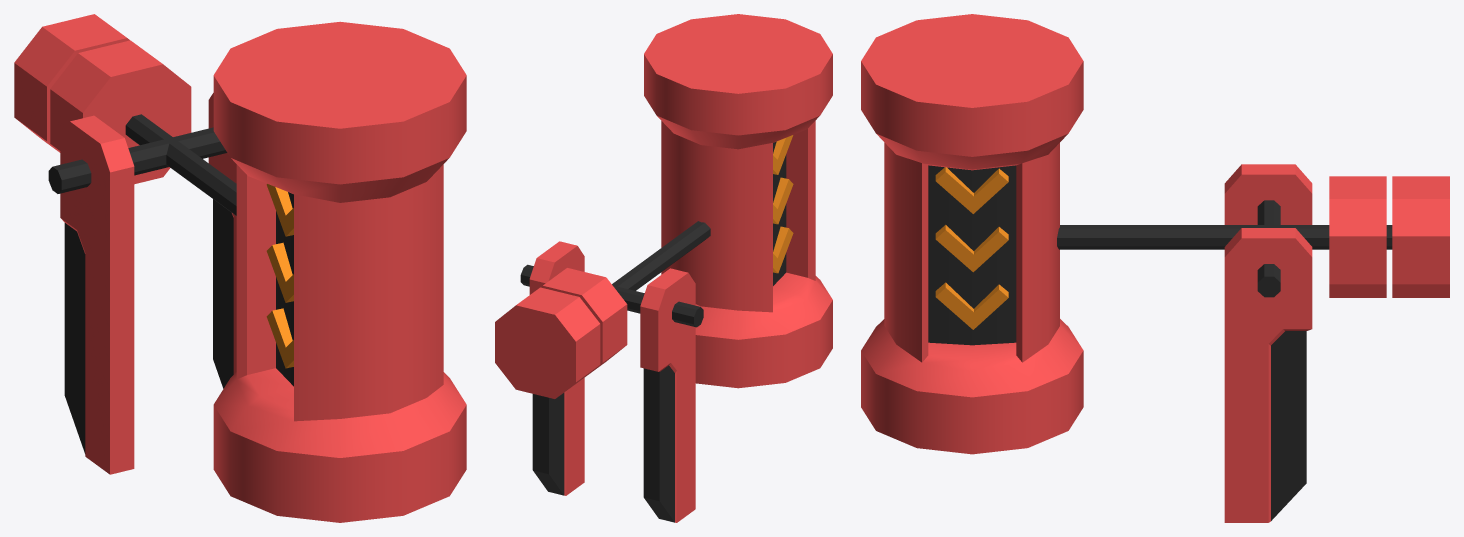
Rendered from HummerFell.fbx.
3 renders of one model, left to right at view 1: azimuth 30°, elevation 25°; view 2: azimuth 150°, elevation 25°; view 3: azimuth 270°, elevation 25°, orthographic. The views are drawn at different scales.
Visible parts, largest first — view 1: Hummer, Base; view 2: Hummer, Base; view 3: Hummer, Base.
Boxes of the visible parts, left/top/right/bottom form: Hummer: left=14, top=14, right=466, bottom=522; Base: left=60, top=93, right=236, bottom=474; Hummer: left=495, top=14, right=832, bottom=398; Base: left=529, top=241, right=695, bottom=522; Hummer: left=861, top=14, right=1449, bottom=454; Base: left=1224, top=164, right=1312, bottom=522.
Size of the model in its own units: 611 by 1216 by 1527.
